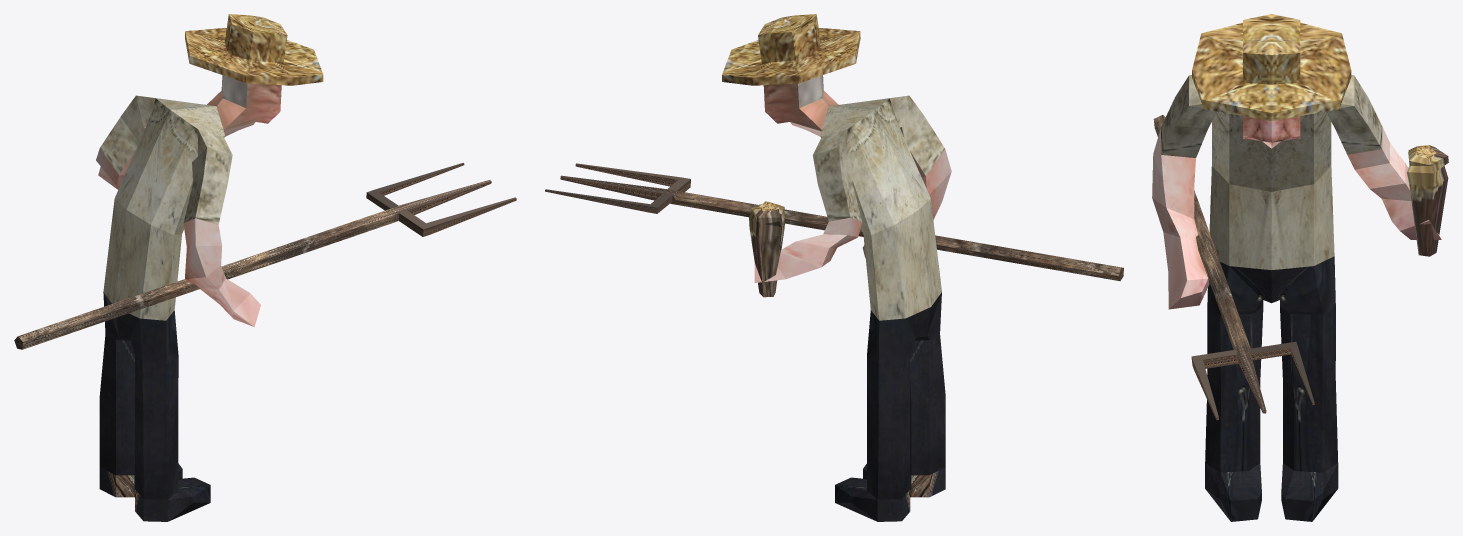
Rendered from old Man.fbx.
The picture shows the model from 3 angles, left to right: view 1: azimuth 30°, elevation 25°; view 2: azimuth 150°, elevation 25°; view 3: azimuth 270°, elevation 25°; orthographic projection. The views are drawn at different scales.
Parts seen in each view (by area): view 1: Cylinder.002, Cylinder.003; view 2: Cylinder.002, Cylinder.003, Cylinder.004; view 3: Cylinder.002, Cylinder.003, Cylinder.004.
Boxes of the visible parts, <box> form: Cylinder.002: <box>96,14,323,521</box>; Cylinder.003: <box>14,163,516,349</box>; Cylinder.002: <box>722,14,951,521</box>; Cylinder.003: <box>545,163,1123,281</box>; Cylinder.004: <box>749,201,785,297</box>; Cylinder.002: <box>1152,14,1441,521</box>; Cylinder.003: <box>1153,115,1314,420</box>; Cylinder.004: <box>1407,145,1448,256</box>.
Size of the model in its own units: 471 by 393 by 199.
